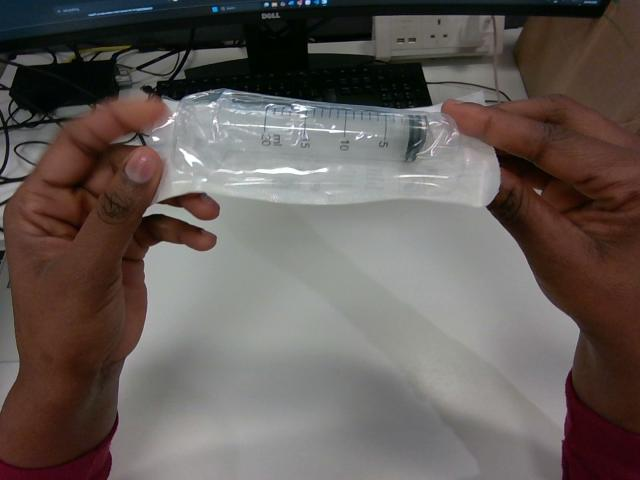syringe: (151, 90, 498, 205)
